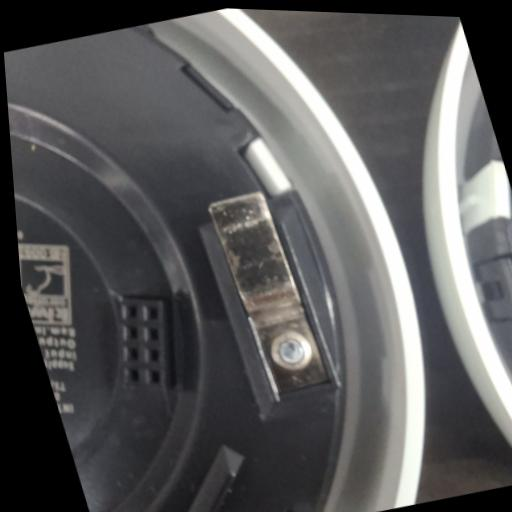yaysiz: (196, 175, 337, 402)
